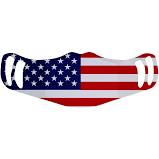cloth_mask: (1, 49, 159, 109)
